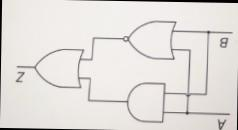and: (123, 79, 167, 124)
nor: (119, 17, 178, 61)
or: (30, 46, 86, 90)
